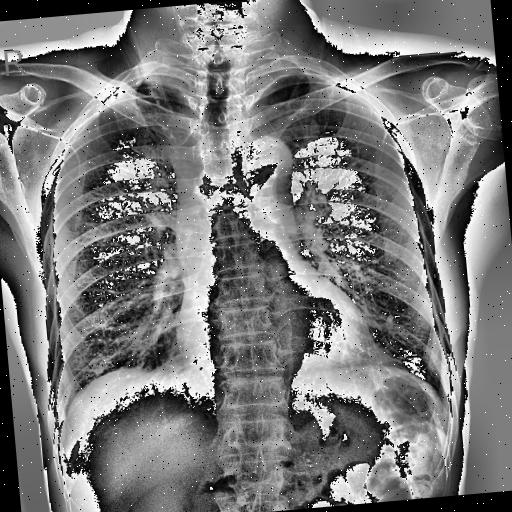0- Aortic enlargement: (233, 134, 297, 228), (235, 136, 296, 200), (240, 133, 292, 181)
11- Pleural thickening: (109, 71, 192, 100), (253, 65, 320, 86)
2- Calcification: (253, 65, 320, 86)
